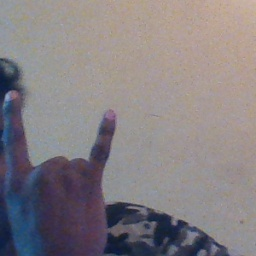V: (1, 89, 121, 256)
